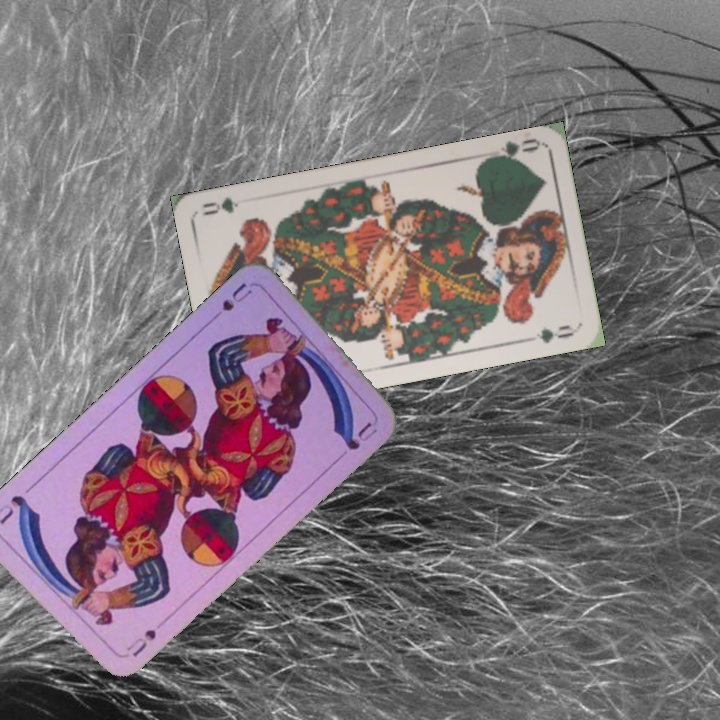GO: (483, 134, 541, 164)
SU: (205, 279, 255, 326), (128, 625, 159, 660)
